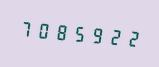eight: (51, 17, 67, 45)
five: (68, 19, 84, 47)
nine: (85, 20, 101, 48)
seven: (17, 14, 33, 42)
two: (102, 22, 118, 50), (119, 23, 135, 51)
zero: (34, 16, 50, 44)
